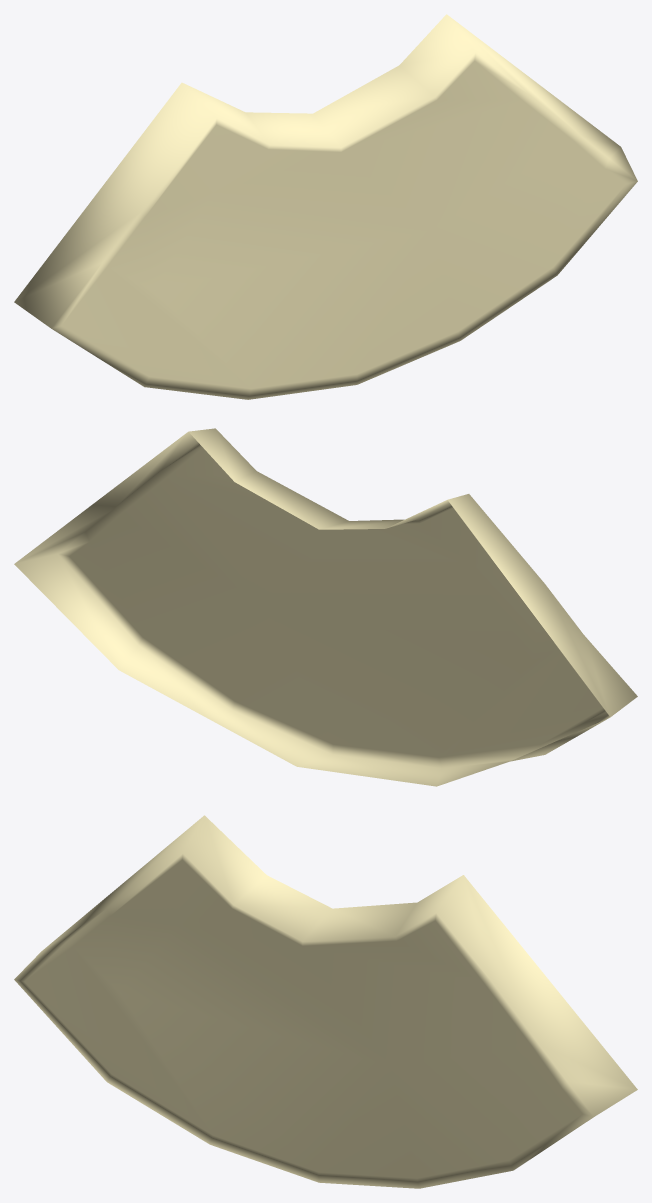
The model's file is ui_radialMenu_4_bot.glb.
3 renders of one model, top to bottom at view 1: azimuth 30°, elevation 25°; view 2: azimuth 150°, elevation 25°; view 3: azimuth 330°, elevation 25°, orthographic.
Visible parts, largest first — view 1: main4_bot; view 2: main4_bot; view 3: main4_bot.
Boxes of the visible parts, x1,y1,x2,y2 form: main4_bot: (14, 14, 637, 399); main4_bot: (14, 428, 637, 786); main4_bot: (14, 815, 637, 1188).
Size of the model in its own units: 1.42 by 0.717 by 0.1323.
